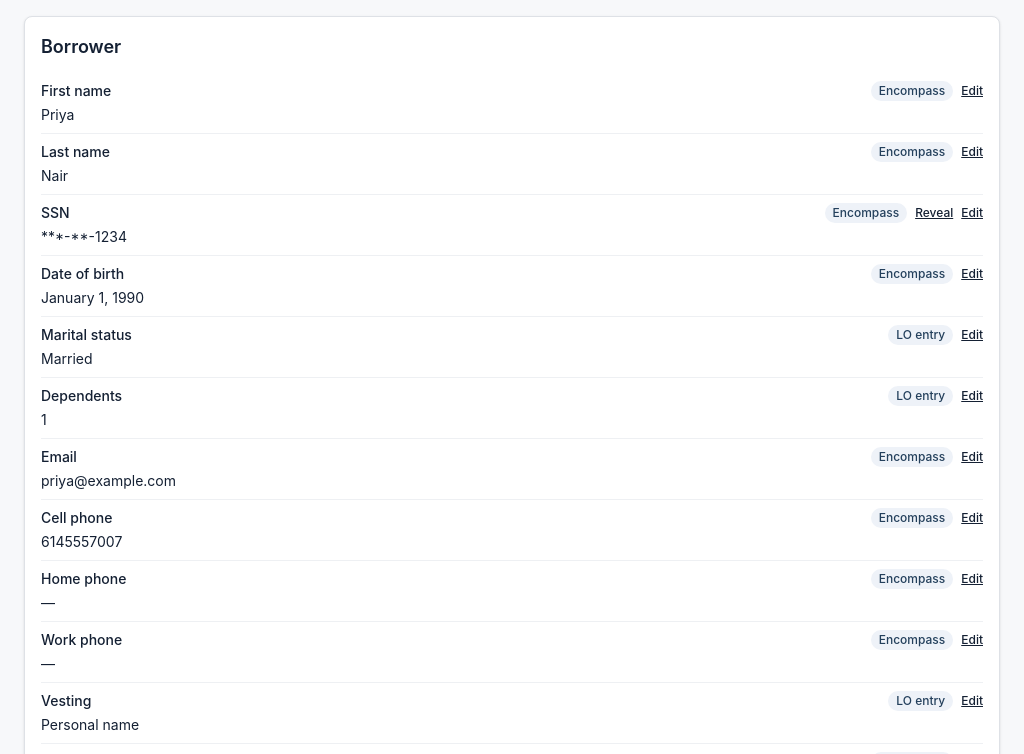
BorrowersTab (docs/backlog/CQ-028-verification-tabs) › edits a field and applies the returned section
Click the button "Edit" in the row of "Cell phone": (972, 518) 961,510 -> 983,526
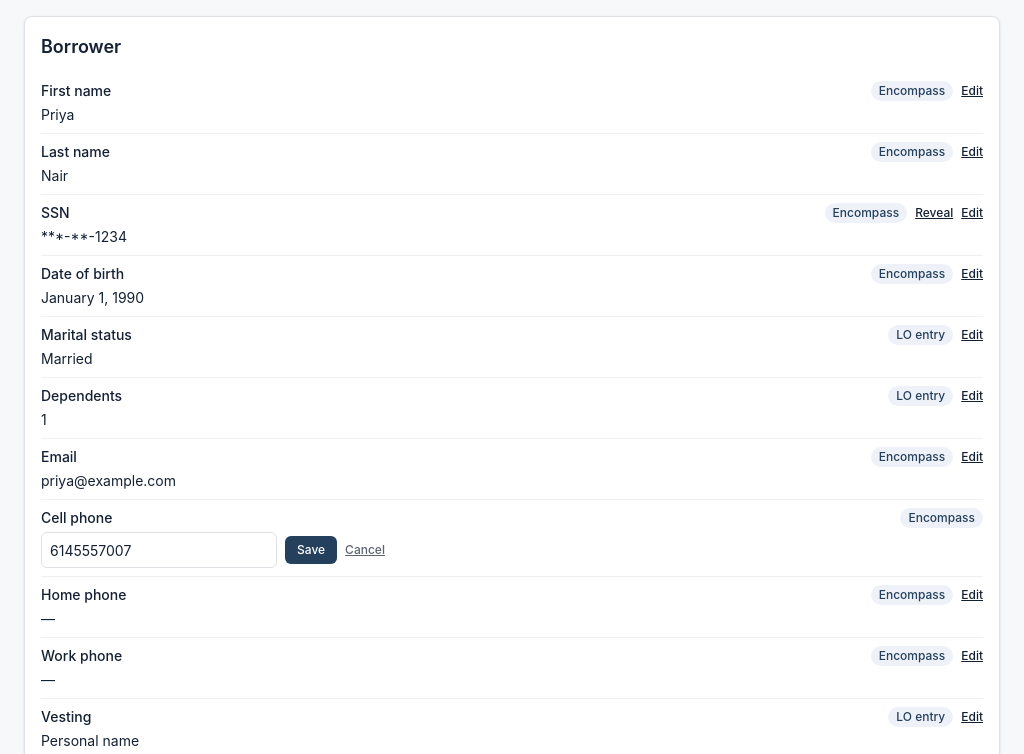
Replace the text in the field named "Cell phone" with "6145559999": (159, 550) 41,532 -> 277,568
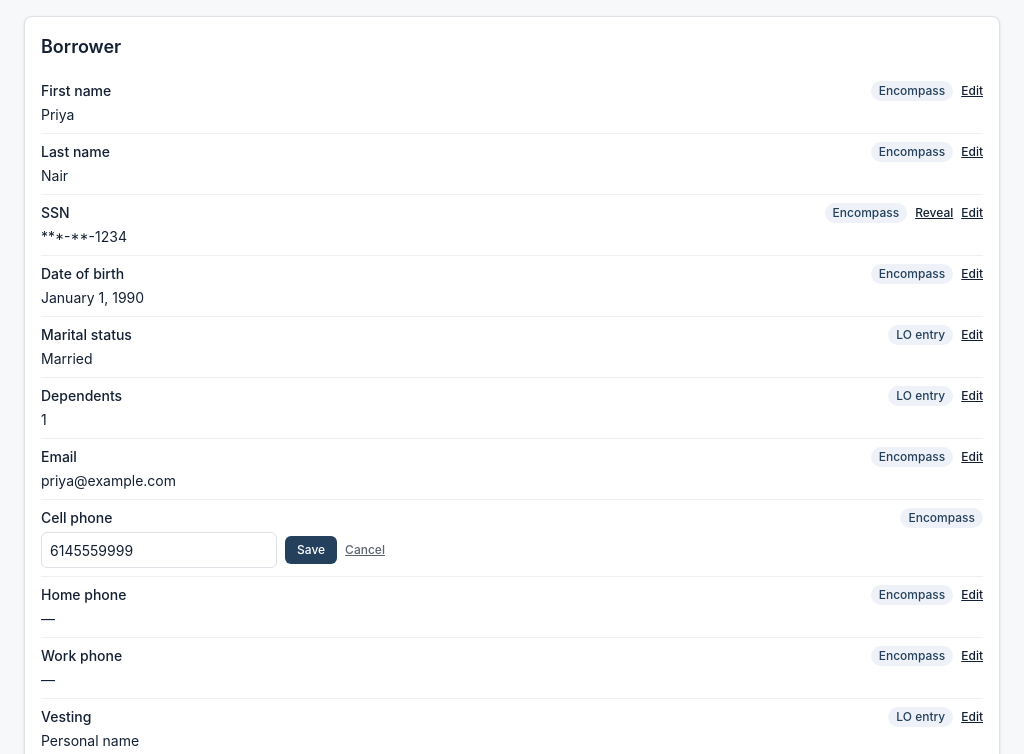
Click the button "Save": (311, 550) 285,536 -> 337,564
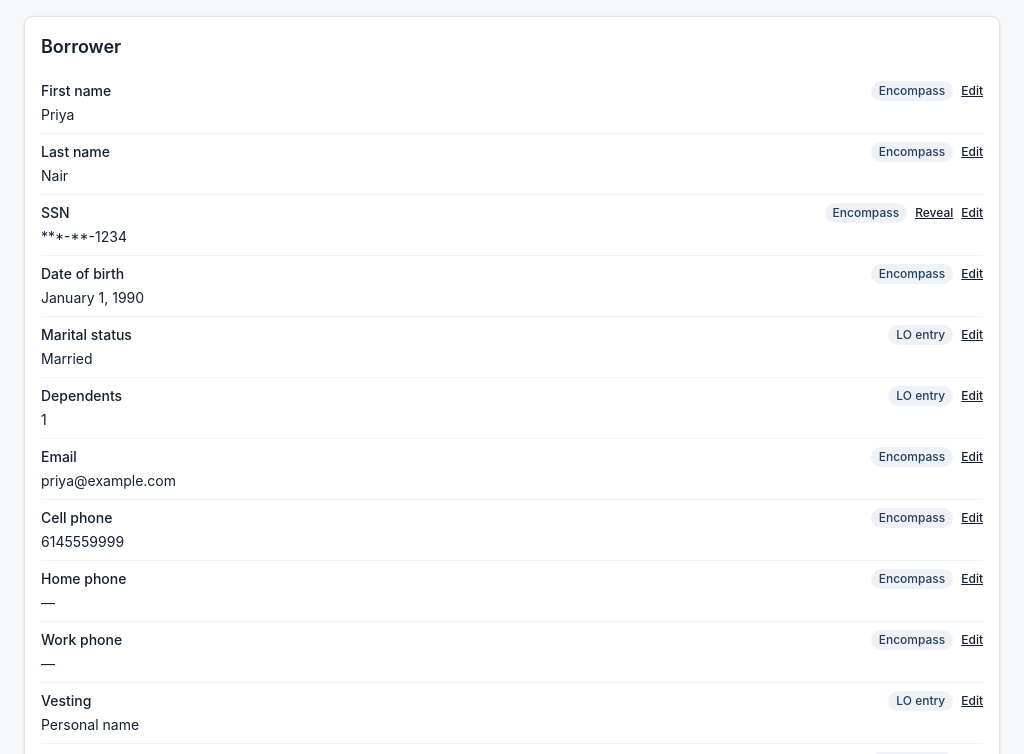
Check: the text "6145559999" is shown, box 41,533 -> 124,550
